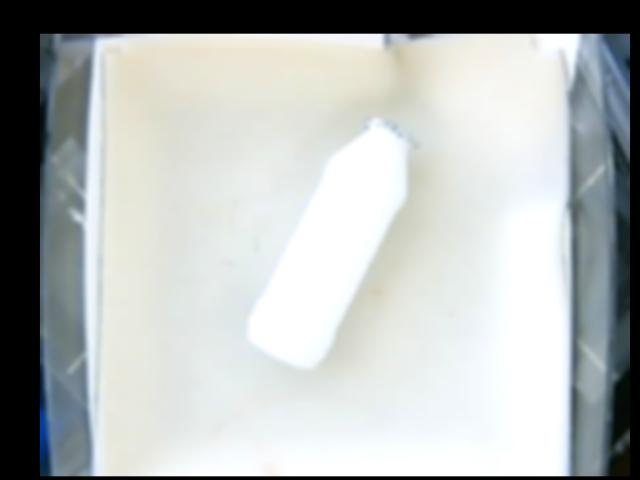Bottle: (248, 116, 420, 367)
